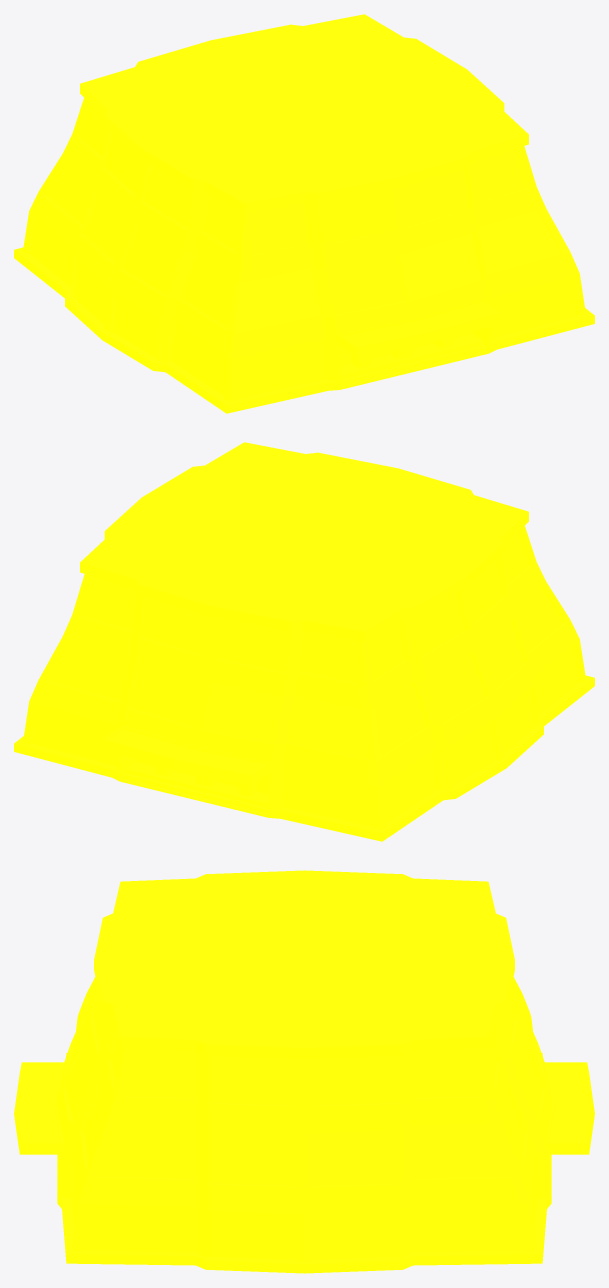
File: skyscraper2-part-bottom.glb
3 views of the same model, one above another, from view 1: azimuth 30°, elevation 25°; view 2: azimuth 150°, elevation 25°; view 3: azimuth 270°, elevation 25° (orthographic). The views are drawn at different scales.
Parts seen in each view (by area): view 1: skyscraper2-part-bottom; view 2: skyscraper2-part-bottom; view 3: skyscraper2-part-bottom.
Boxes of the visible parts, x1=… form: skyscraper2-part-bottom: x1=14, y1=14, x2=594, y2=413; skyscraper2-part-bottom: x1=14, y1=442, x2=594, y2=841; skyscraper2-part-bottom: x1=14, y1=870, x2=594, y2=1273.
Bounding box in the file's own units: 25.6 × 11 × 28.45.
Materials: 1 (1 with a texture image).
